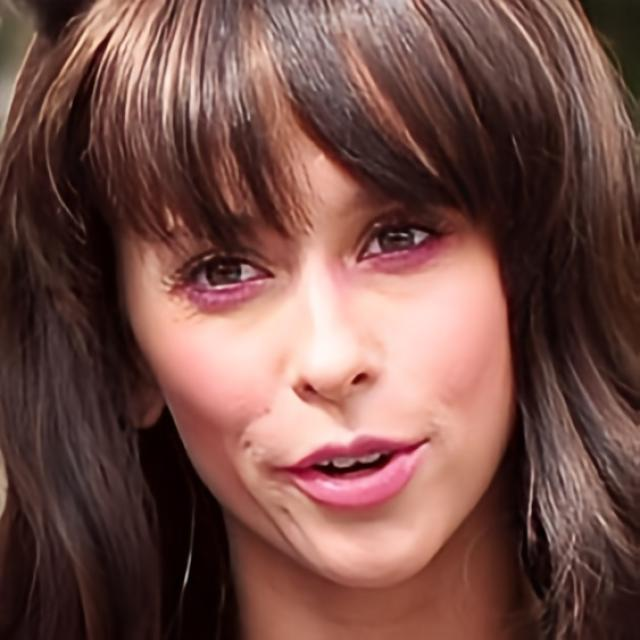surprise: (124, 56, 518, 584)
